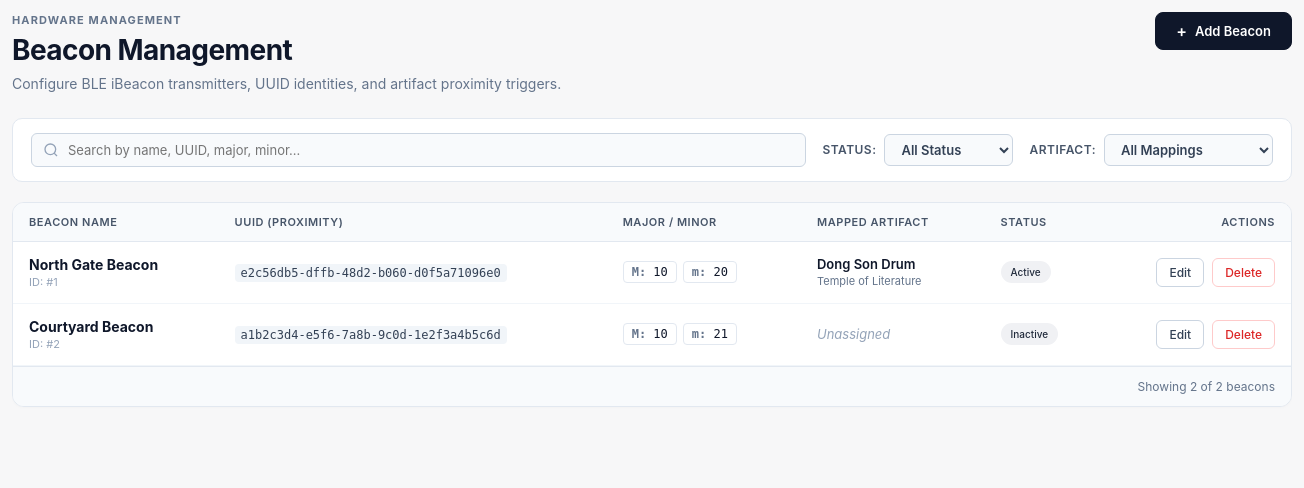
Test case: BeaconsPage — Admin Beacon Management › confirms and deletes a beacon
expect the text "North Gate Beacon" is shown: met, box [29, 256, 158, 272]
What coordinates should you click on to do the following:
click the button with aria-label "delete north gate beacon"
I would click on:
 (1244, 272)
Its box is [1212, 258, 1275, 286].
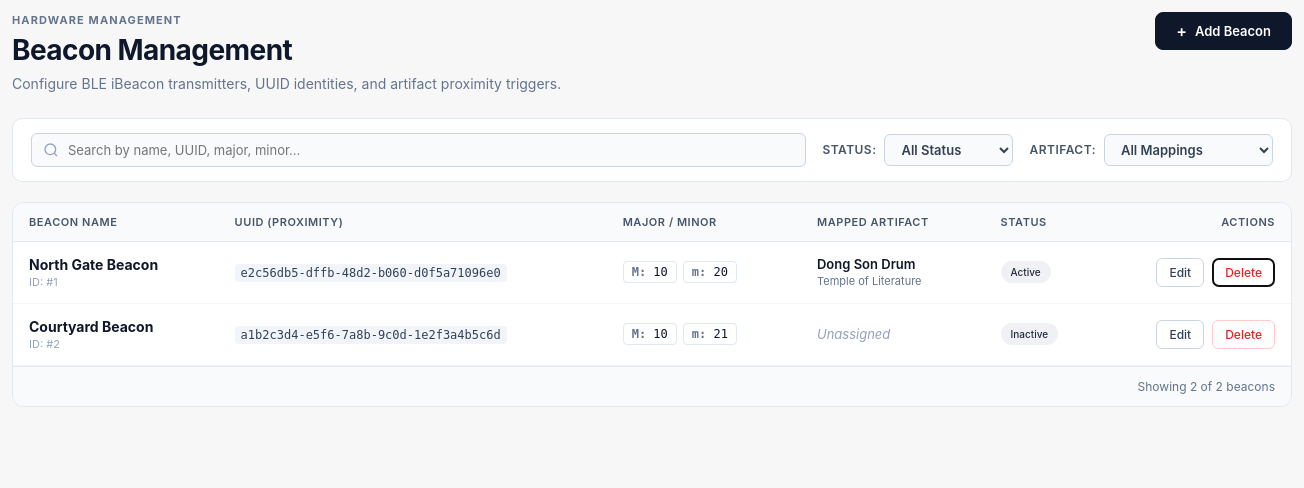
What coordinates should you click on to do the following:
click the button with aria-label "delete north gate beacon"
I would click on:
 (1244, 272)
Its box is [1212, 258, 1275, 286].
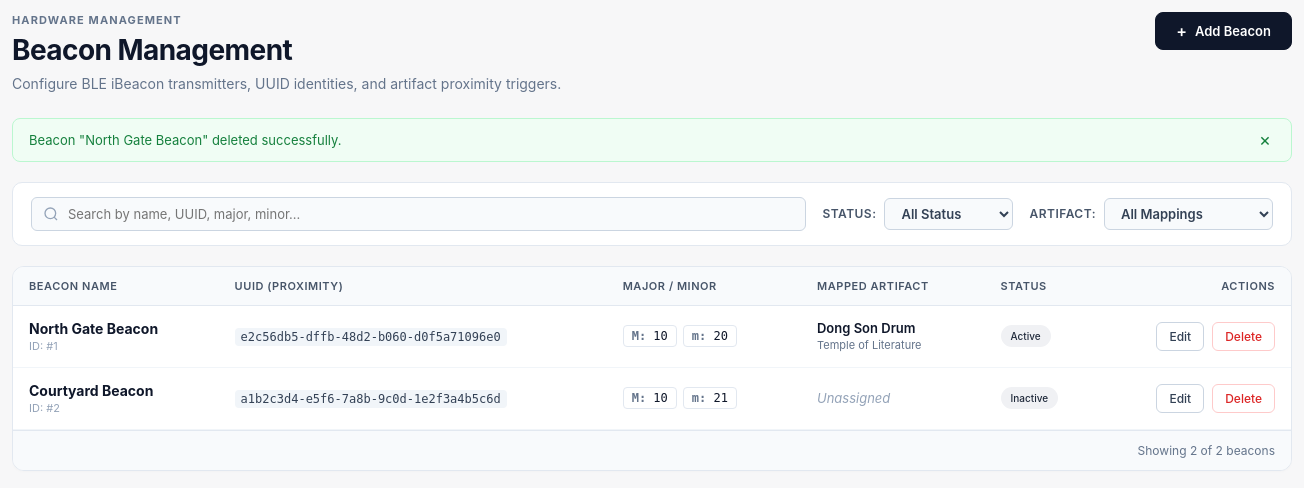
expect the text "Beacon \"North Gate Beacon\" deleted successfully." is shown: met, box [29, 132, 342, 148]
